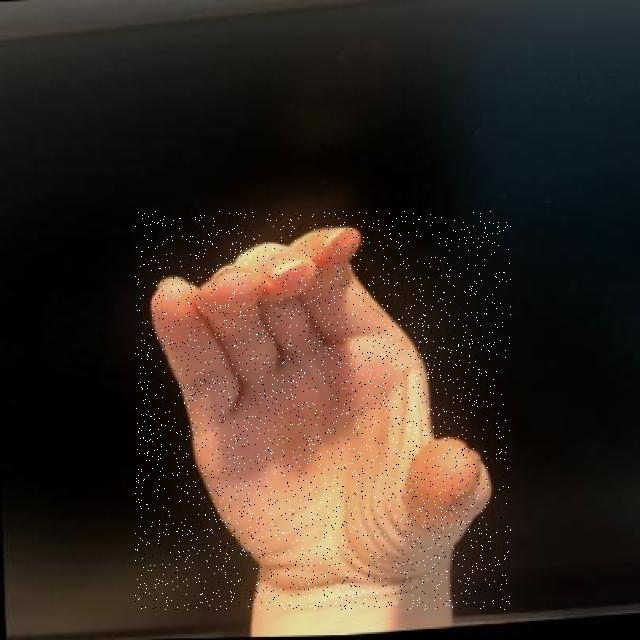C: (135, 211, 511, 610)
